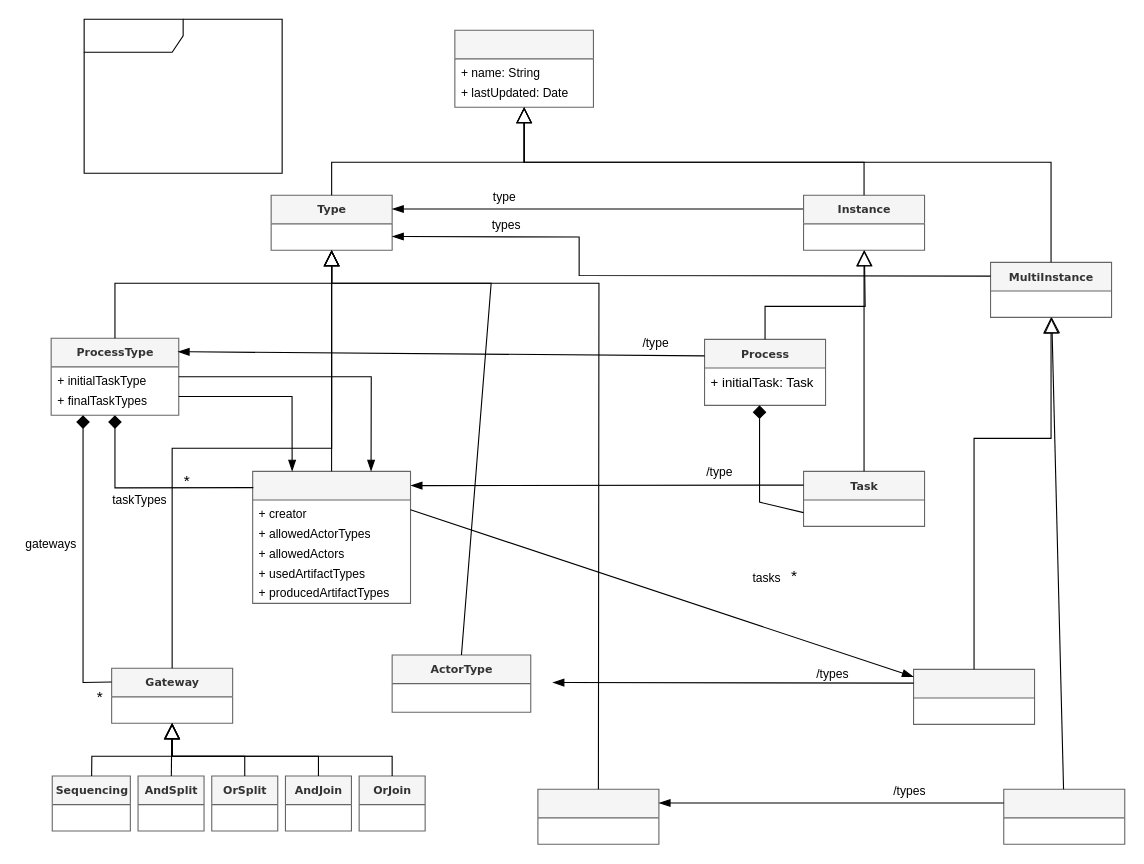
Some shapes in this 1144 by 864 pixel diagram are drawn without their labels. Each missing label, with the box of its shape:
Actor: (912, 668, 1035, 724)
Artifact: (1003, 788, 1125, 844)
ArtifactType: (537, 788, 659, 844)
Metamodel: (83, 18, 282, 173)
ModelingElement: (454, 29, 593, 107)
TaskType: (252, 470, 411, 603)
